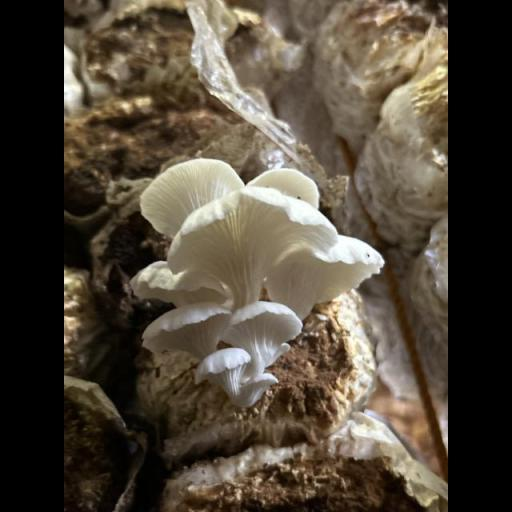White Oyster Mushroom: (133, 159, 383, 402)
